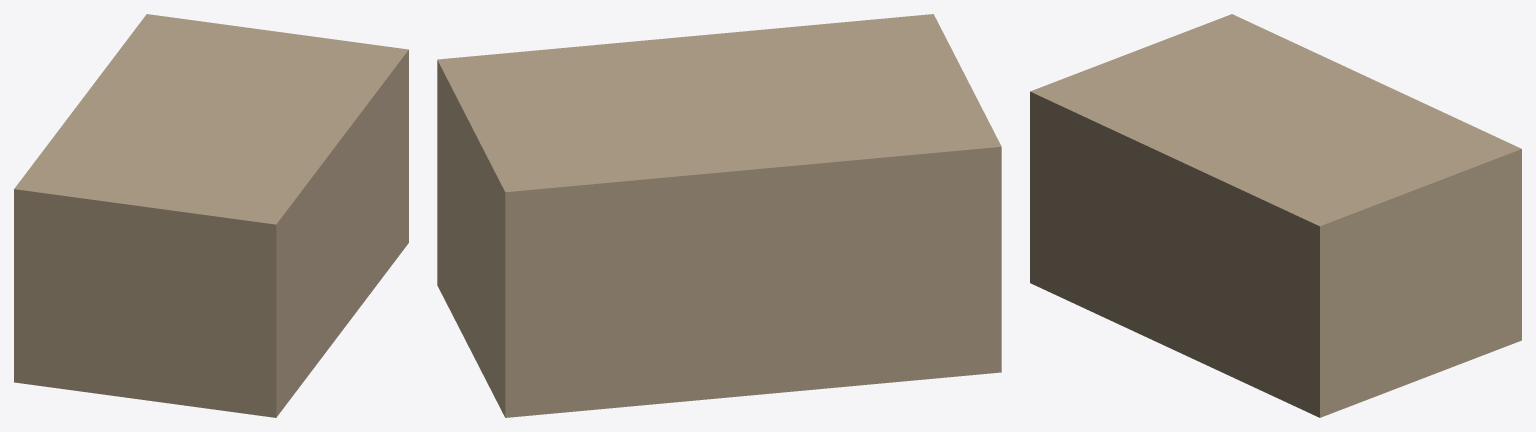
The model's file is bld_106306662.dae.
The picture shows the model from 3 angles, left to right: view 1: azimuth 30°, elevation 25°; view 2: azimuth 150°, elevation 25°; view 3: azimuth 270°, elevation 25°; orthographic projection. The views are drawn at different scales.
Parts seen in each view (by area): view 1: bld_106306662; view 2: bld_106306662; view 3: bld_106306662.
Boxes of the visible parts, x1,y1,x2,y2 form: bld_106306662: (14, 14, 408, 417); bld_106306662: (437, 14, 1001, 417); bld_106306662: (1030, 14, 1521, 417).
Size of the model in its own units: 19.02 by 18.62 by 8.
